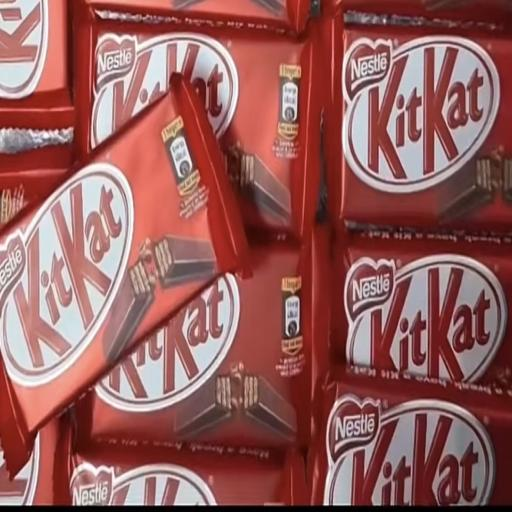kitkat: (0, 127, 229, 388)
